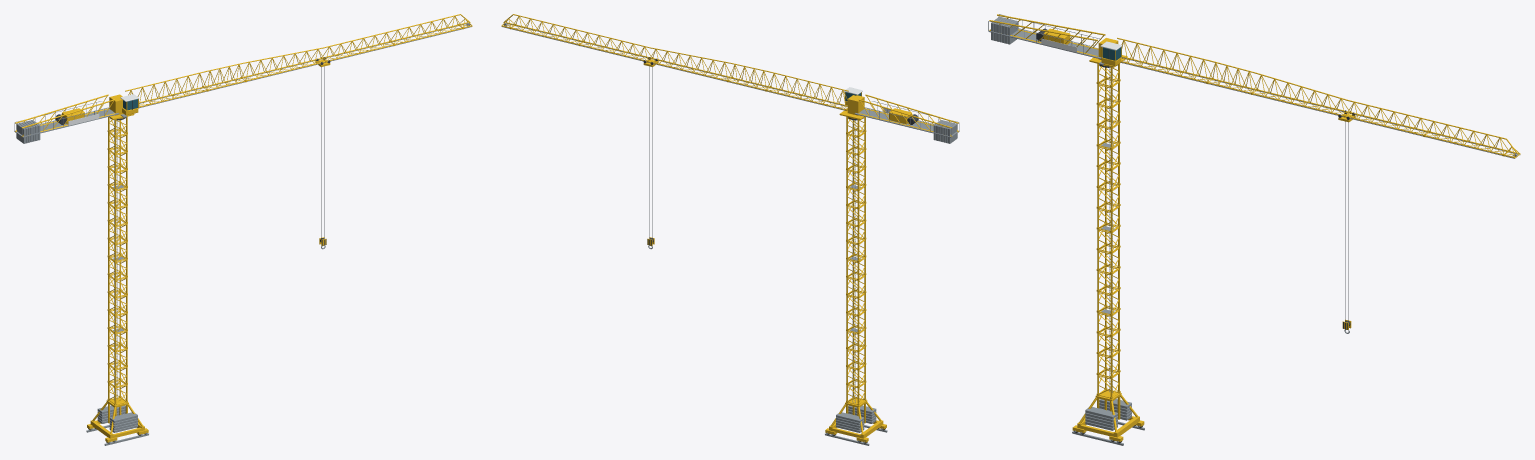
Rendered from liebherr-172ecb.glb.
3 views of the same model, side by side, from view 1: azimuth 30°, elevation 25°; view 2: azimuth 150°, elevation 25°; view 3: azimuth 330°, elevation 25° (orthographic). The views are drawn at different scales.
Visible parts, largest first — view 1: ROOT_yellow_batch, SLEW_yellow_batch, SLEW_metal_batch, ROOT_metal_batch; view 2: SLEW_yellow_batch, ROOT_yellow_batch, SLEW_metal_batch, ROOT_metal_batch; view 3: ROOT_yellow_batch, SLEW_yellow_batch, SLEW_metal_batch, ROOT_metal_batch.
Boxes of the visible parts, bbox=[...] form: ROOT_yellow_batch: bbox=[87, 116, 148, 442]; SLEW_yellow_batch: bbox=[15, 14, 472, 136]; SLEW_metal_batch: bbox=[14, 23, 472, 143]; ROOT_metal_batch: bbox=[86, 120, 148, 445]; SLEW_yellow_batch: bbox=[501, 14, 958, 136]; ROOT_yellow_batch: bbox=[825, 116, 886, 442]; SLEW_metal_batch: bbox=[501, 23, 959, 143]; ROOT_metal_batch: bbox=[825, 120, 887, 445]; ROOT_yellow_batch: bbox=[1072, 63, 1144, 441]; SLEW_yellow_batch: bbox=[989, 14, 1520, 158]; SLEW_metal_batch: bbox=[988, 14, 1518, 158]; ROOT_metal_batch: bbox=[1072, 68, 1144, 445].
Size of the model in its own units: 66.08 by 47.66 by 5.38.
